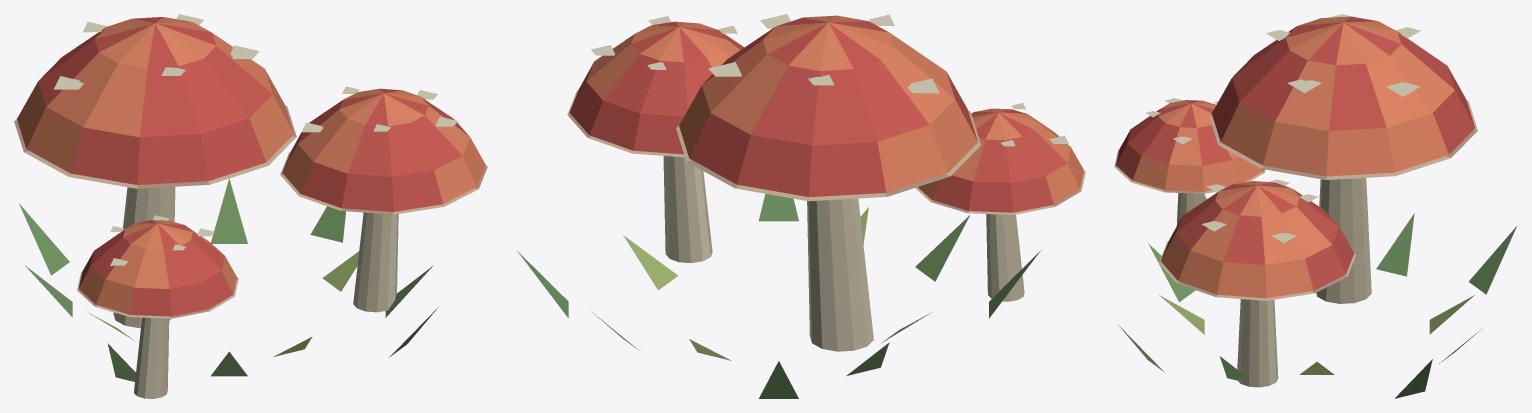
Rendered from mushroom.glb.
3 renders of one model, left to right at view 1: azimuth 30°, elevation 25°; view 2: azimuth 150°, elevation 25°; view 3: azimuth 270°, elevation 25°, orthographic. The views are drawn at different scales.
Parts seen in each view (by area): view 1: Collectible mushrooms; view 2: Collectible mushrooms; view 3: Collectible mushrooms.
Boxes of the visible parts, x1,y1,x2,y2 form: Collectible mushrooms: [14, 14, 487, 398]; Collectible mushrooms: [517, 14, 1085, 398]; Collectible mushrooms: [1114, 14, 1516, 398].
Size of the model in its own units: 0.6988 by 0.4622 by 0.6094.
